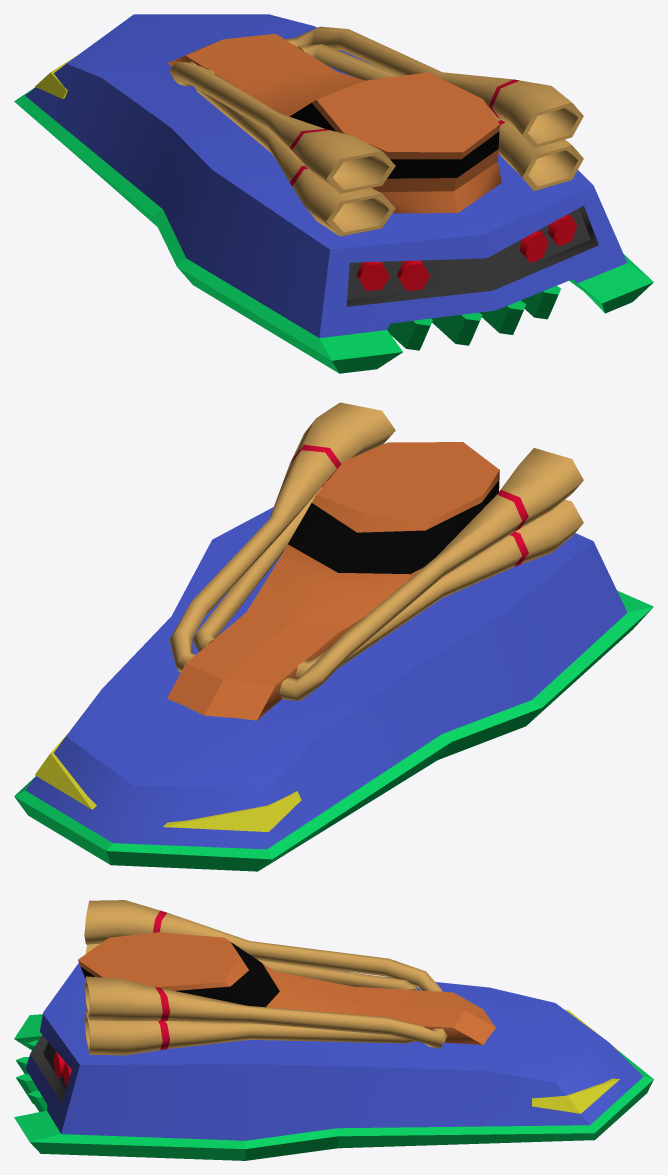
File: car07v2Material.fbx
3 views of the same model, one above another, from view 1: azimuth 30°, elevation 25°; view 2: azimuth 150°, elevation 25°; view 3: azimuth 270°, elevation 25° (orthographic). The views are drawn at different scales.
Parts seen in each view (by area): view 1: backlights; view 2: backlights; view 3: backlights.
Boxes of the visible parts, x1,y1,x2,y2 form: backlights: (14, 14, 653, 373); backlights: (14, 402, 653, 871); backlights: (14, 900, 653, 1160).
Bounding box in the file's own units: 3.71 × 6.97 × 1.8.
